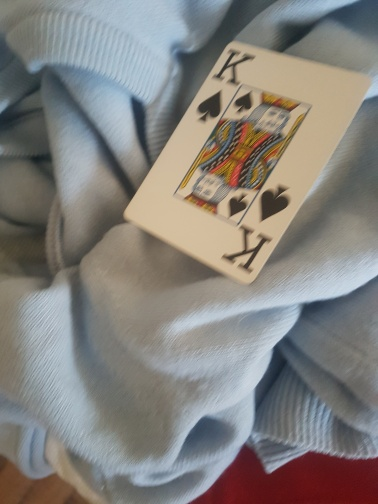king: (124, 42, 375, 282)
